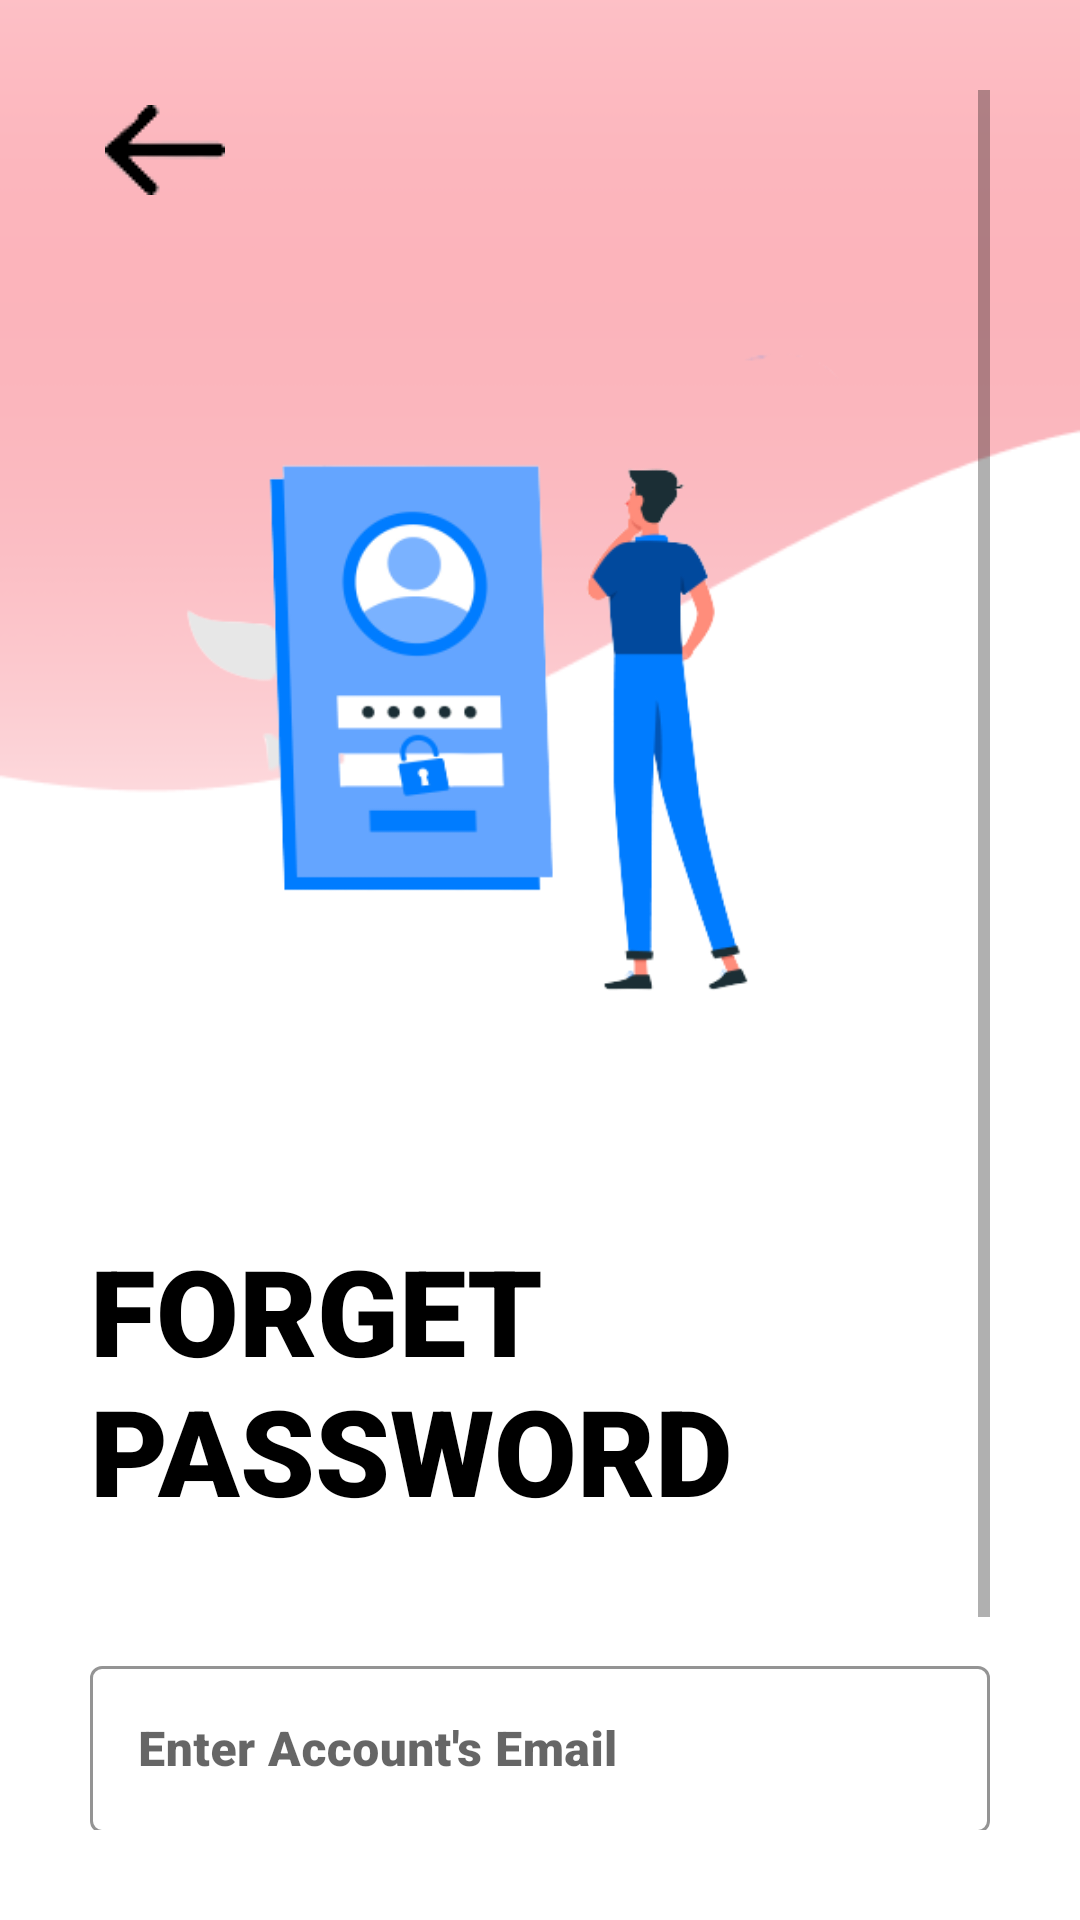

Where icons sit on this 1080 × 1920 app screen, as [x1=x1, y1=y1, x2=x2, y2=y2]:
back: [x1=105, y1=105, x2=225, y2=195]
